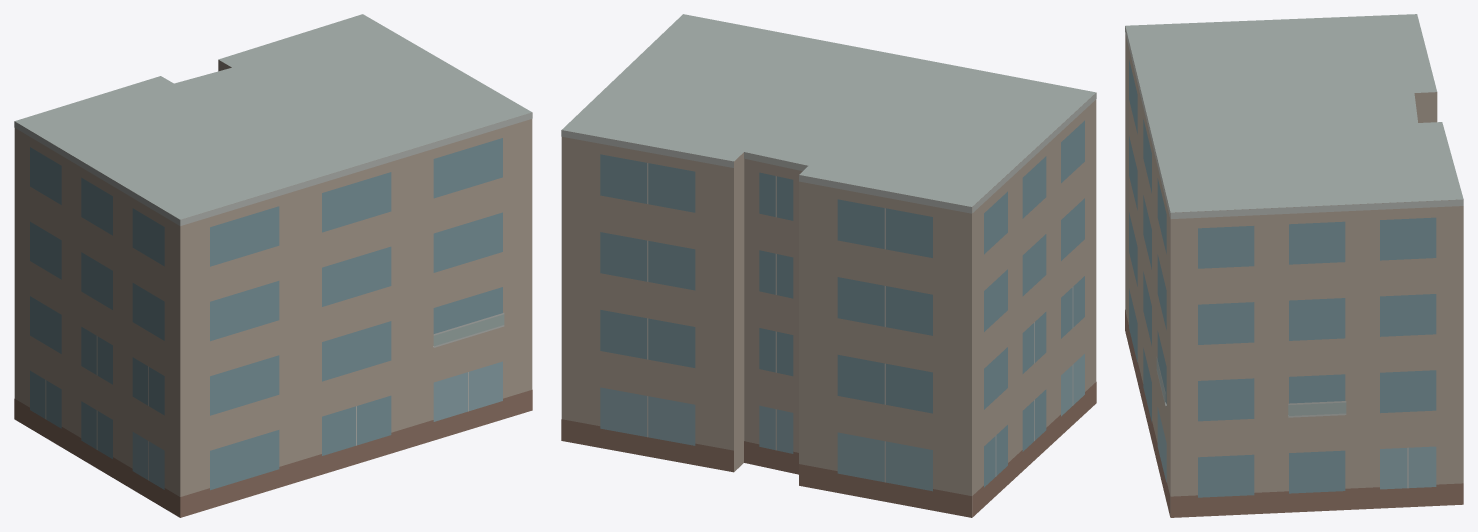
Rendered from survey-upis-32567446.glb.
3 renders of one model, left to right at view 1: azimuth 30°, elevation 25°; view 2: azimuth 150°, elevation 25°; view 3: azimuth 270°, elevation 25°, orthographic. The views are drawn at different scales.
Visible parts, largest first — view 1: survey-upis-32567446.tmp; view 2: survey-upis-32567446.tmp; view 3: survey-upis-32567446.tmp.
Boxes of the visible parts, x1,y1,x2,y2 form: survey-upis-32567446.tmp: (14, 14, 532, 517); survey-upis-32567446.tmp: (561, 14, 1096, 517); survey-upis-32567446.tmp: (1125, 14, 1463, 517).
Size of the model in its own units: 15.92 by 11.4 by 11.47.
